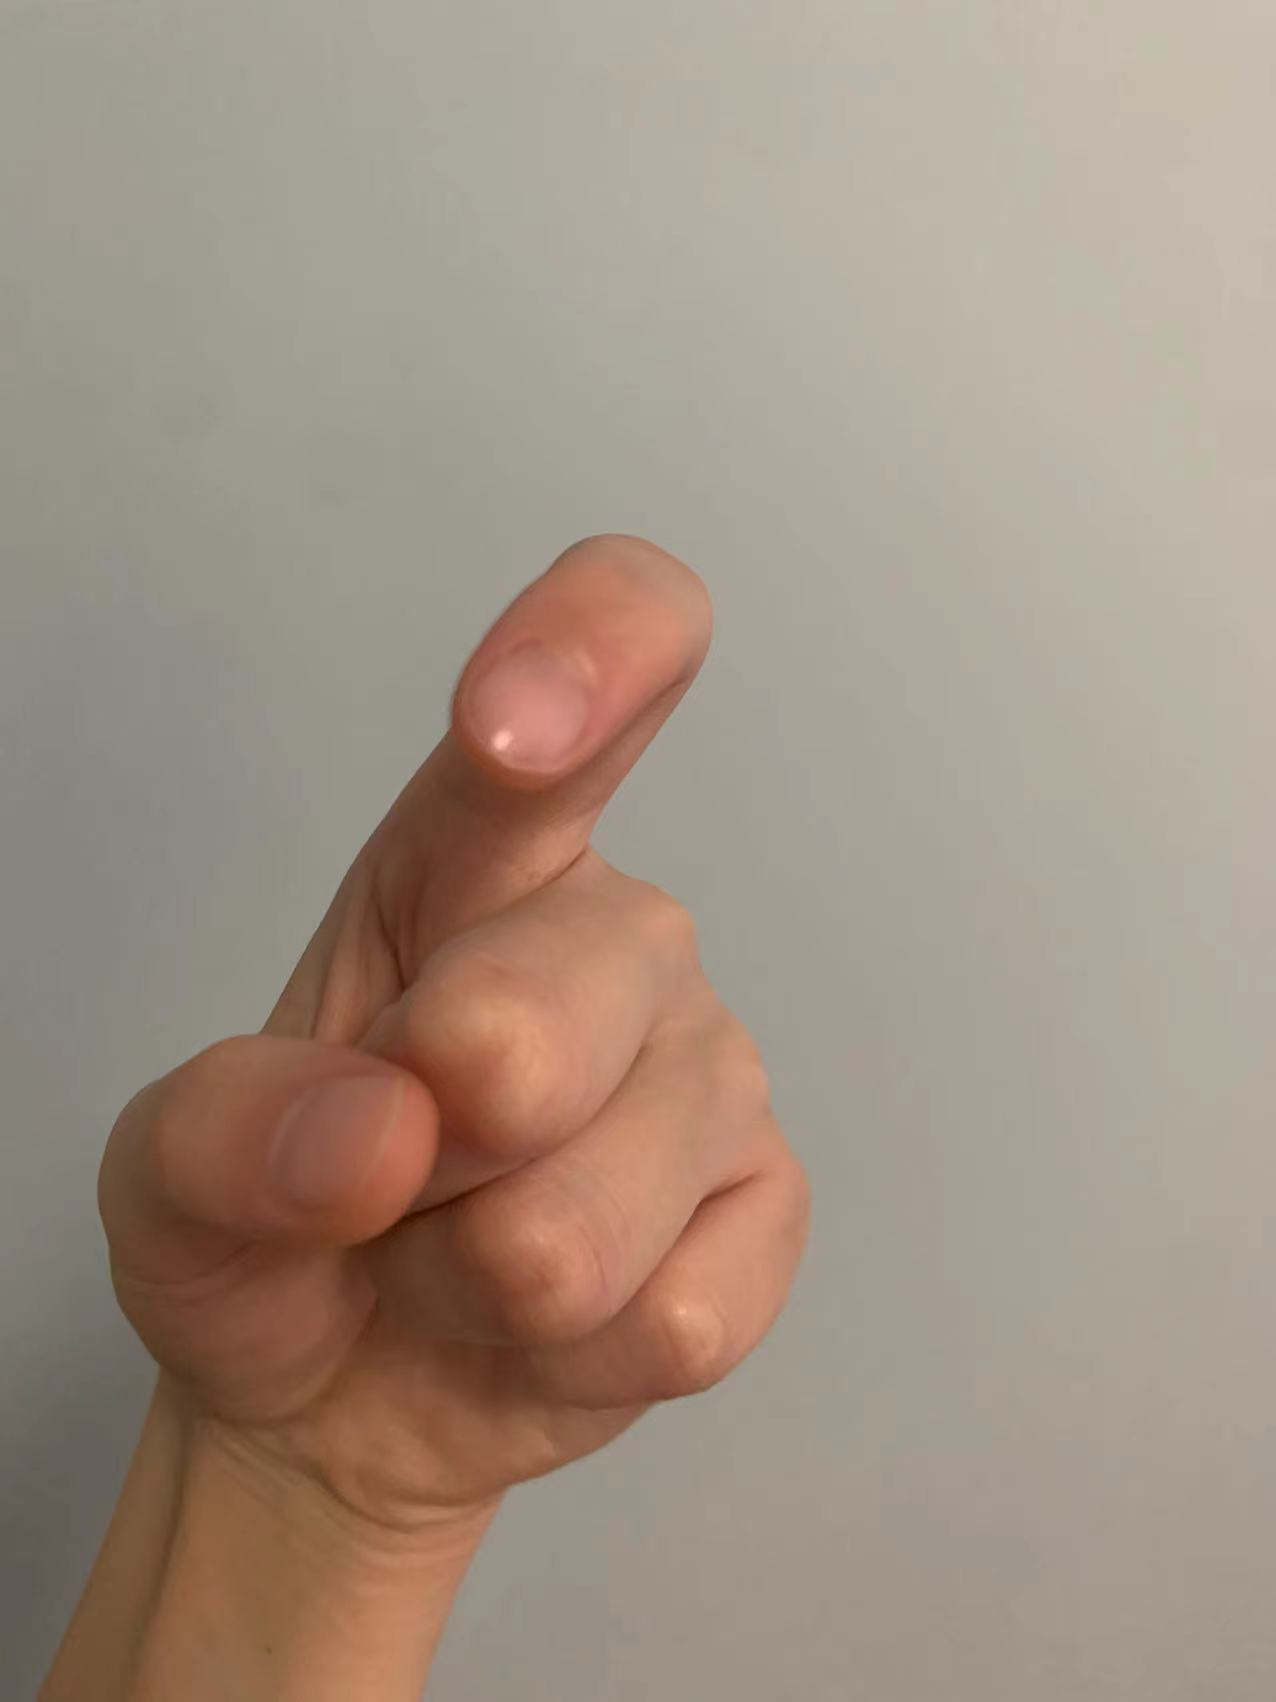anticlockwise: (71, 525, 911, 1476)
